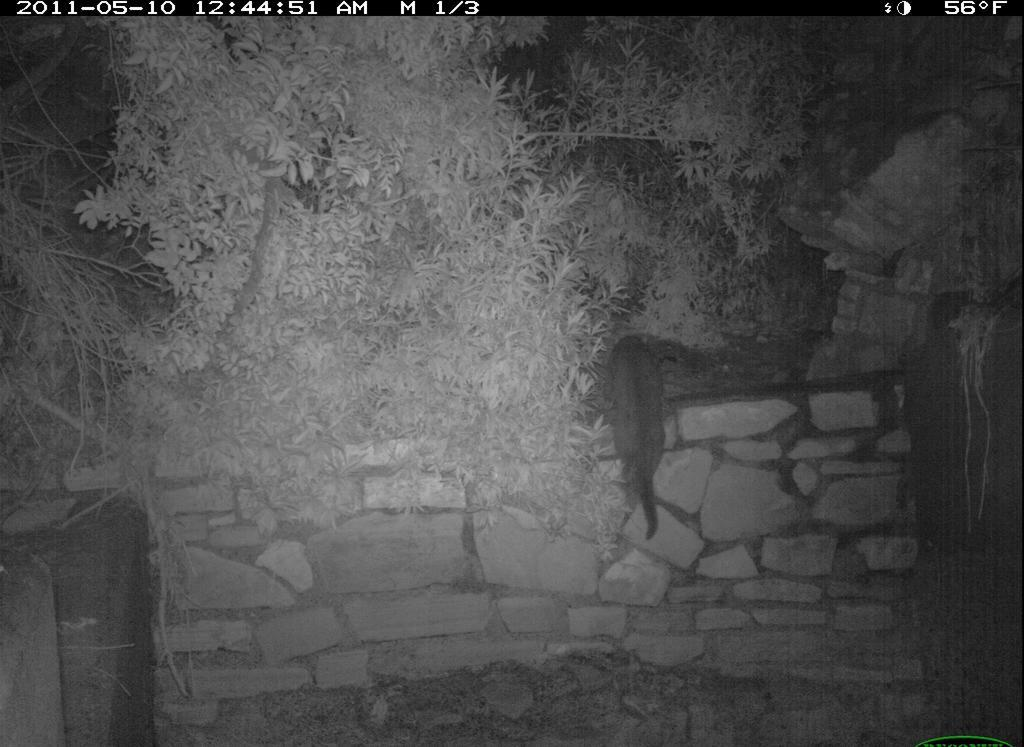cat: (588, 328, 681, 543)
